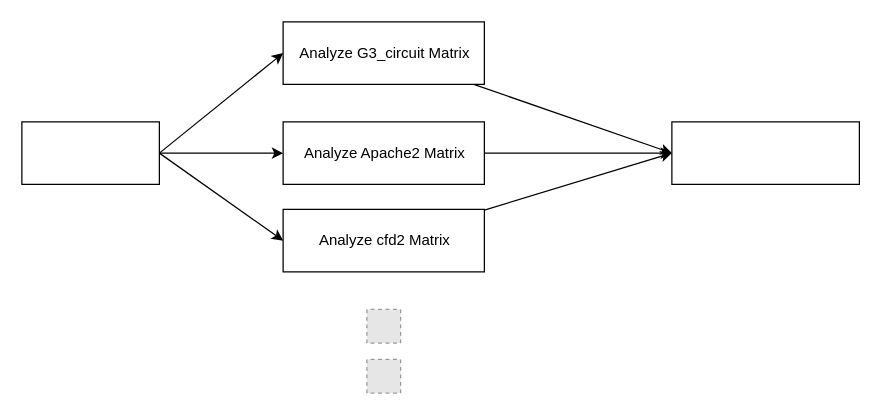
This 881x415 diagram has some shape labels left out. Grey dashed boxes stand in for pictures. Here are the shapes that lost their labels. From the top down, the centre of each, then its label:
(90,152): Execute
(765,152): Save Results on data.csv
